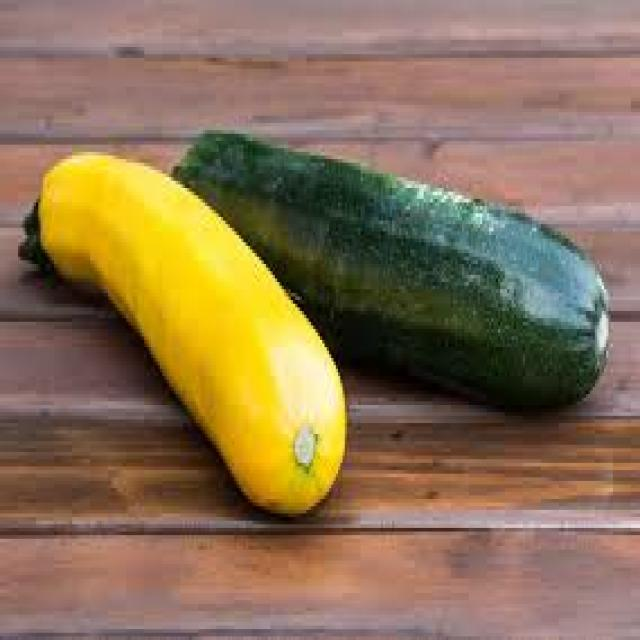organic waste: (169, 126, 608, 416), (15, 144, 342, 514)
